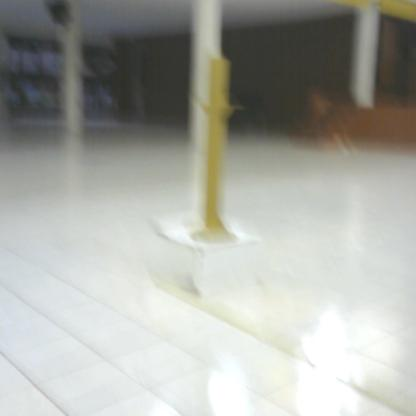pole: (187, 53, 251, 251)
